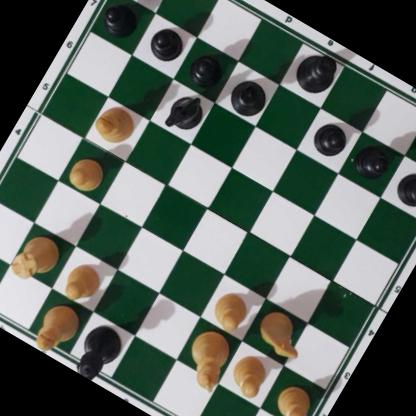black-bishop: (221, 72, 274, 124)
black-king: (287, 43, 344, 101)
black-knight: (160, 85, 213, 139)
black-pawn: (308, 113, 354, 160), (144, 21, 189, 66), (184, 47, 229, 92), (351, 139, 395, 184), (98, 0, 144, 41), (391, 165, 416, 214)
black-queen: (67, 316, 130, 386)
black-rook: (115, 0, 178, 4), (415, 115, 416, 175)
white-bishop: (29, 295, 85, 359), (89, 98, 140, 148)
white-king: (176, 324, 239, 391)
white-knight: (251, 304, 314, 365)
white-pawn: (223, 348, 276, 402), (57, 257, 107, 309), (61, 149, 111, 199), (207, 285, 255, 334), (269, 379, 320, 416)
white-rook: (5, 226, 66, 290)
